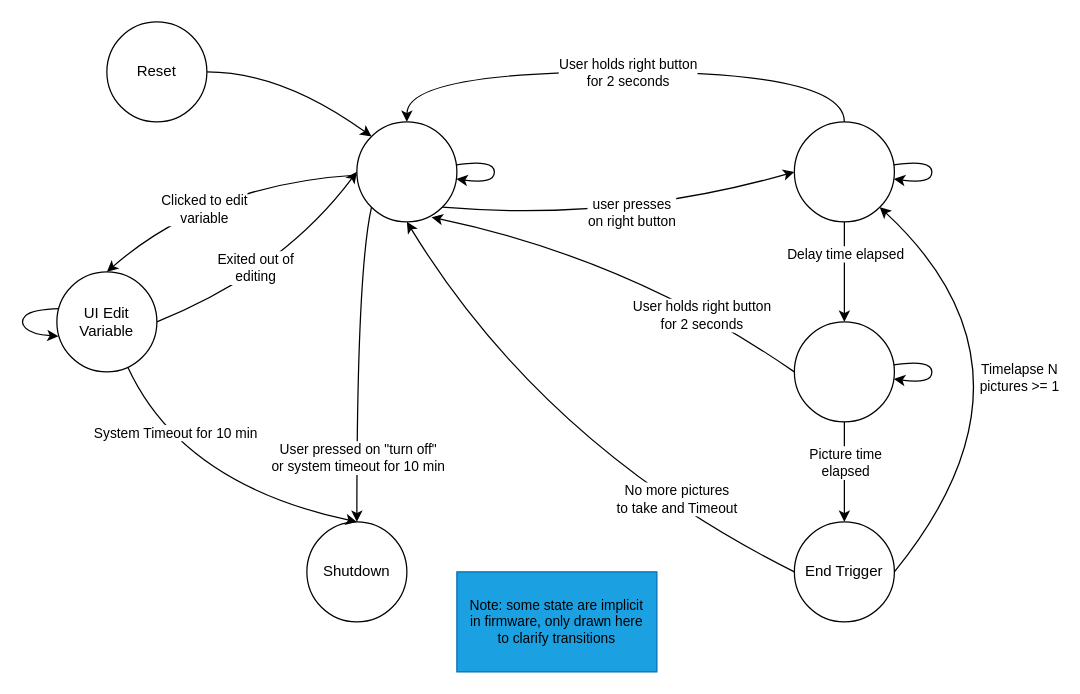
The diagram is 1080 pixels wide and 694 high, and some of its shapes have lost their labels. The shapes that lost their labels are listed below. From the top down, each one's box as (x1, y1, x2, y2) in pixels, then its label:
(356, 121, 457, 222): Standby
(793, 121, 894, 222): Armed
(793, 321, 894, 422): Triggered
